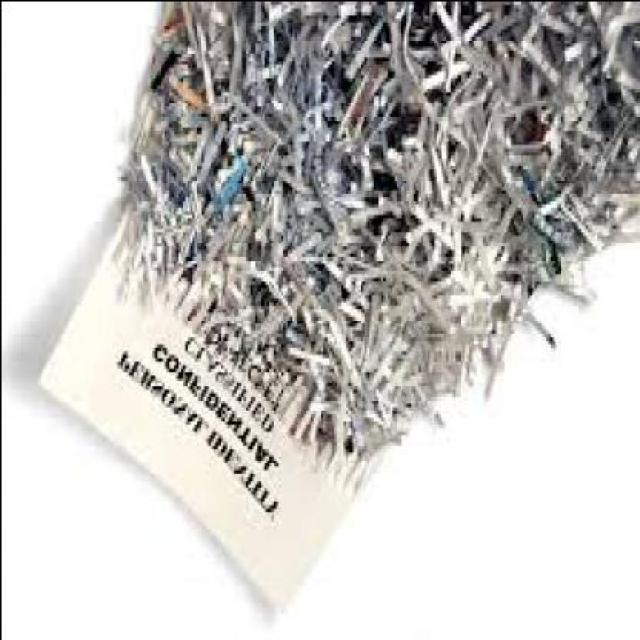PAPER: (115, 3, 638, 454), (35, 192, 370, 619)
